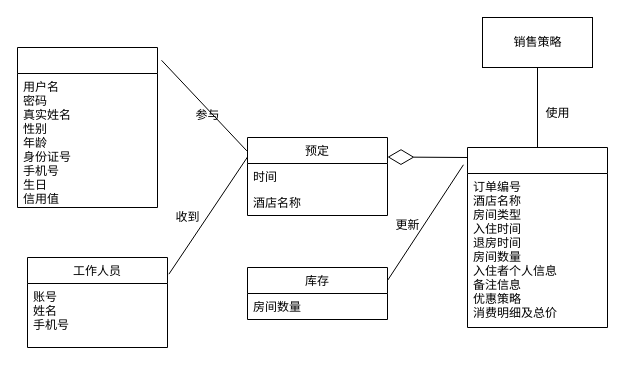
This 625x368 diagram has some shape labels left out. The box of each missing label's shape, as (x1, y1, x2, y2) in pixels:
用户: (16, 46, 158, 208)
订单: (466, 146, 608, 328)
